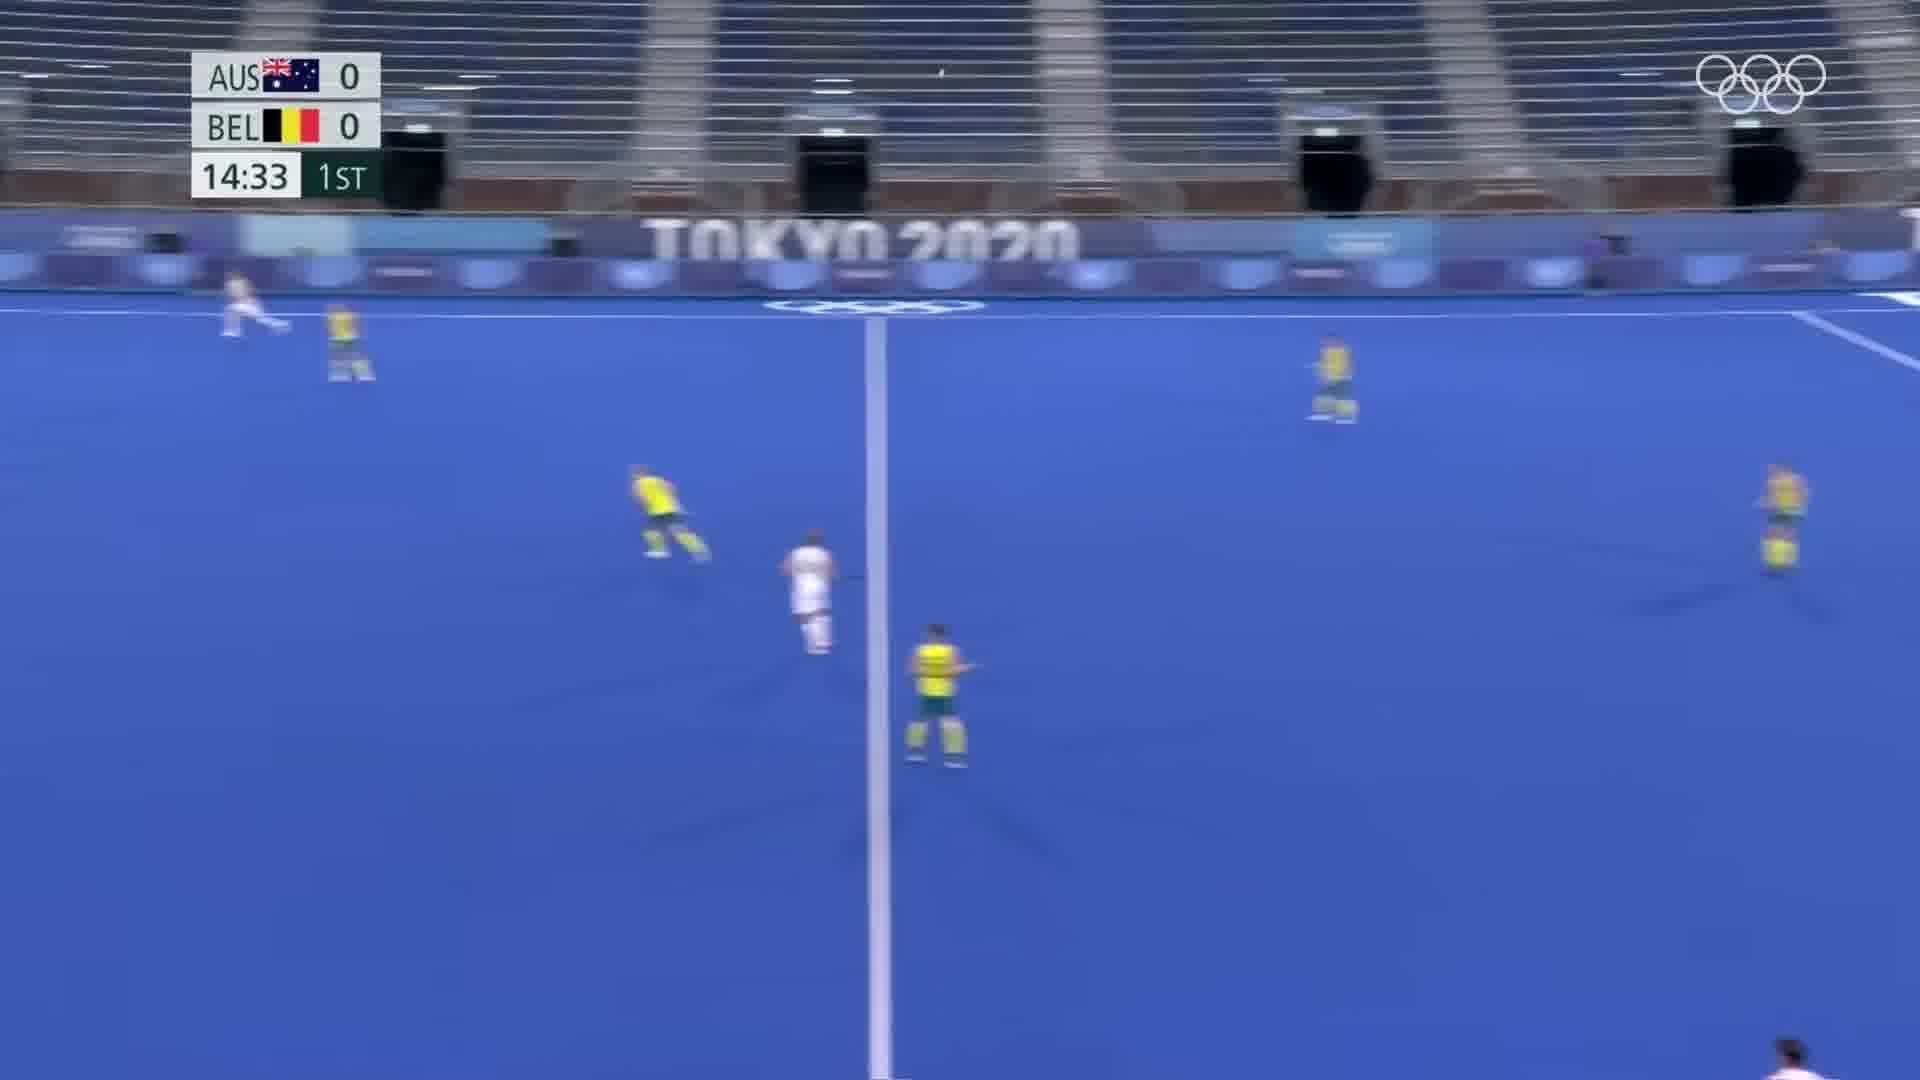ball: (927, 58, 967, 98)
